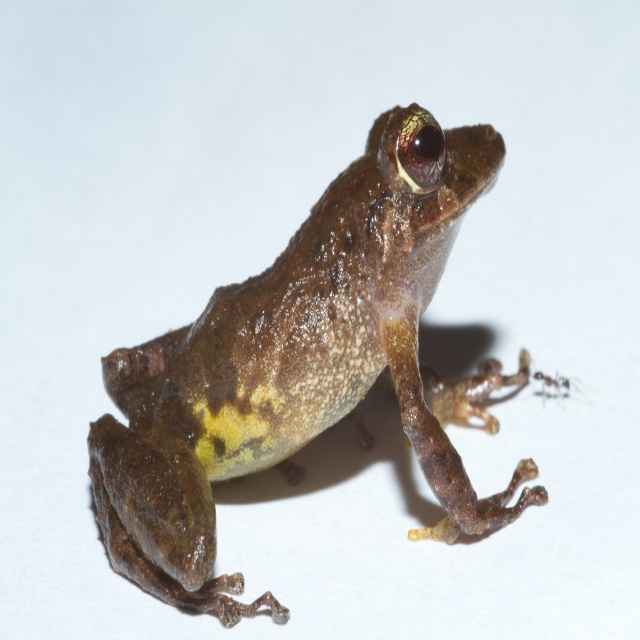Frog: (84, 99, 548, 631)
